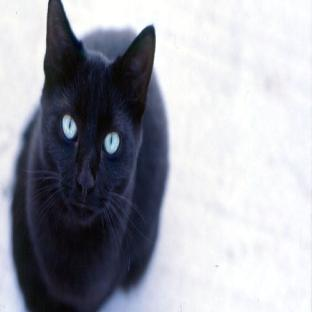Animal: (12, 0, 168, 311)
